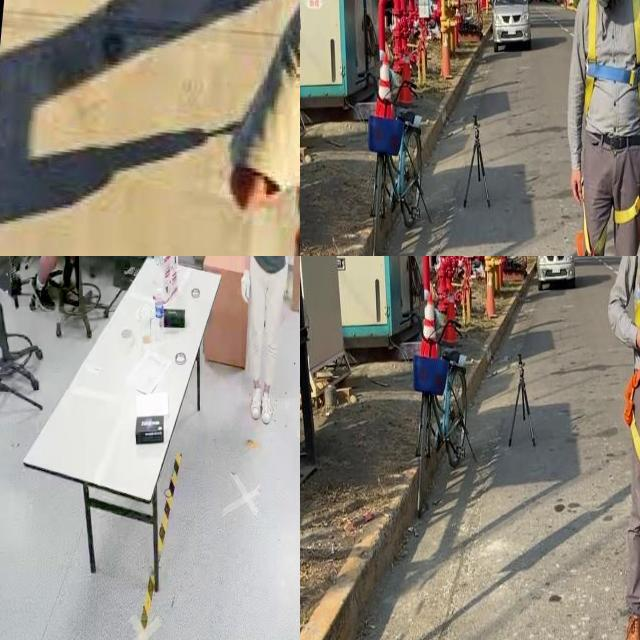Harness: (584, 0, 640, 116), (577, 194, 640, 256), (624, 364, 640, 464)
hand_glove: (239, 264, 253, 308)
person: (241, 256, 300, 399), (11, 256, 79, 307)
shoes: (28, 271, 57, 313), (260, 385, 276, 428), (246, 382, 262, 421)
